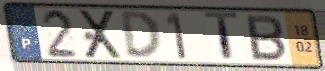1: (165, 11, 190, 62)
2: (41, 7, 79, 61)
B: (244, 13, 288, 63)
D: (119, 10, 164, 62)
T: (202, 10, 240, 65)
X: (77, 9, 125, 61)
